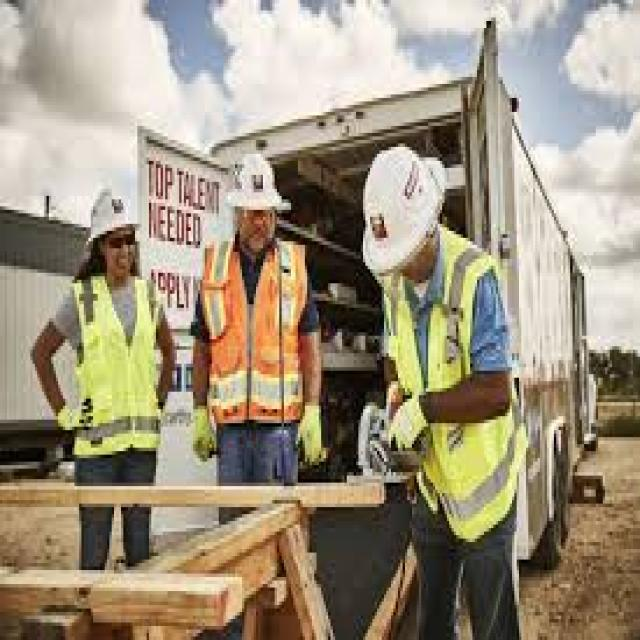Reflective-Jacket: (377, 238, 533, 549), (189, 234, 321, 451), (53, 269, 170, 476)
Safety-Helmet: (352, 133, 444, 283), (221, 144, 293, 220), (79, 175, 144, 248)
